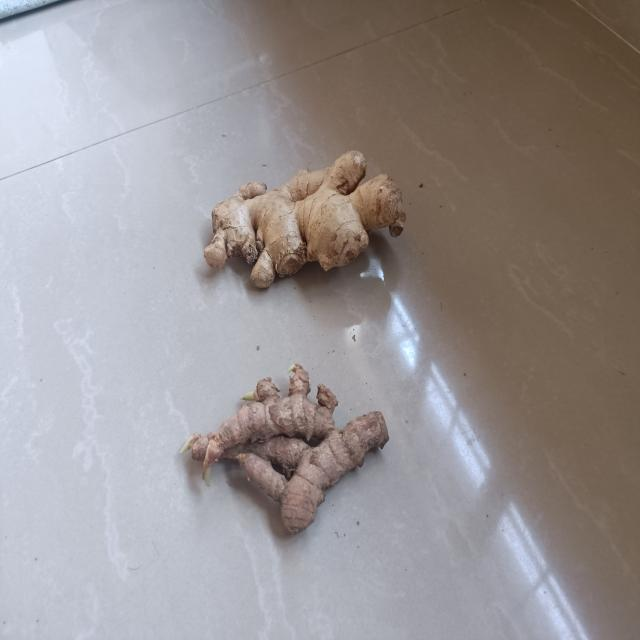ginger: (181, 362, 391, 537), (204, 143, 408, 292)
